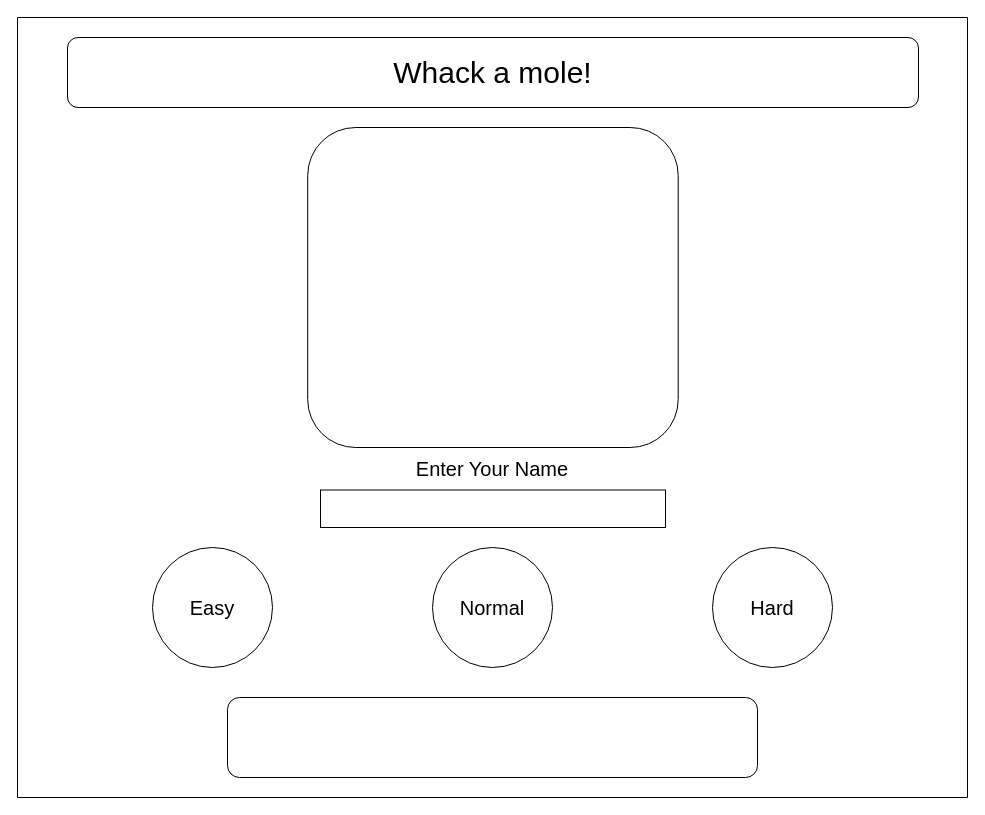
The diagram is 985 pixels wide and 815 high, and some of its shapes have lost their labels. Here are the shapes that lost their labels. From the top down, the box of each, then its label:
(307, 126, 678, 448): Image
(226, 696, 758, 778): Start!
